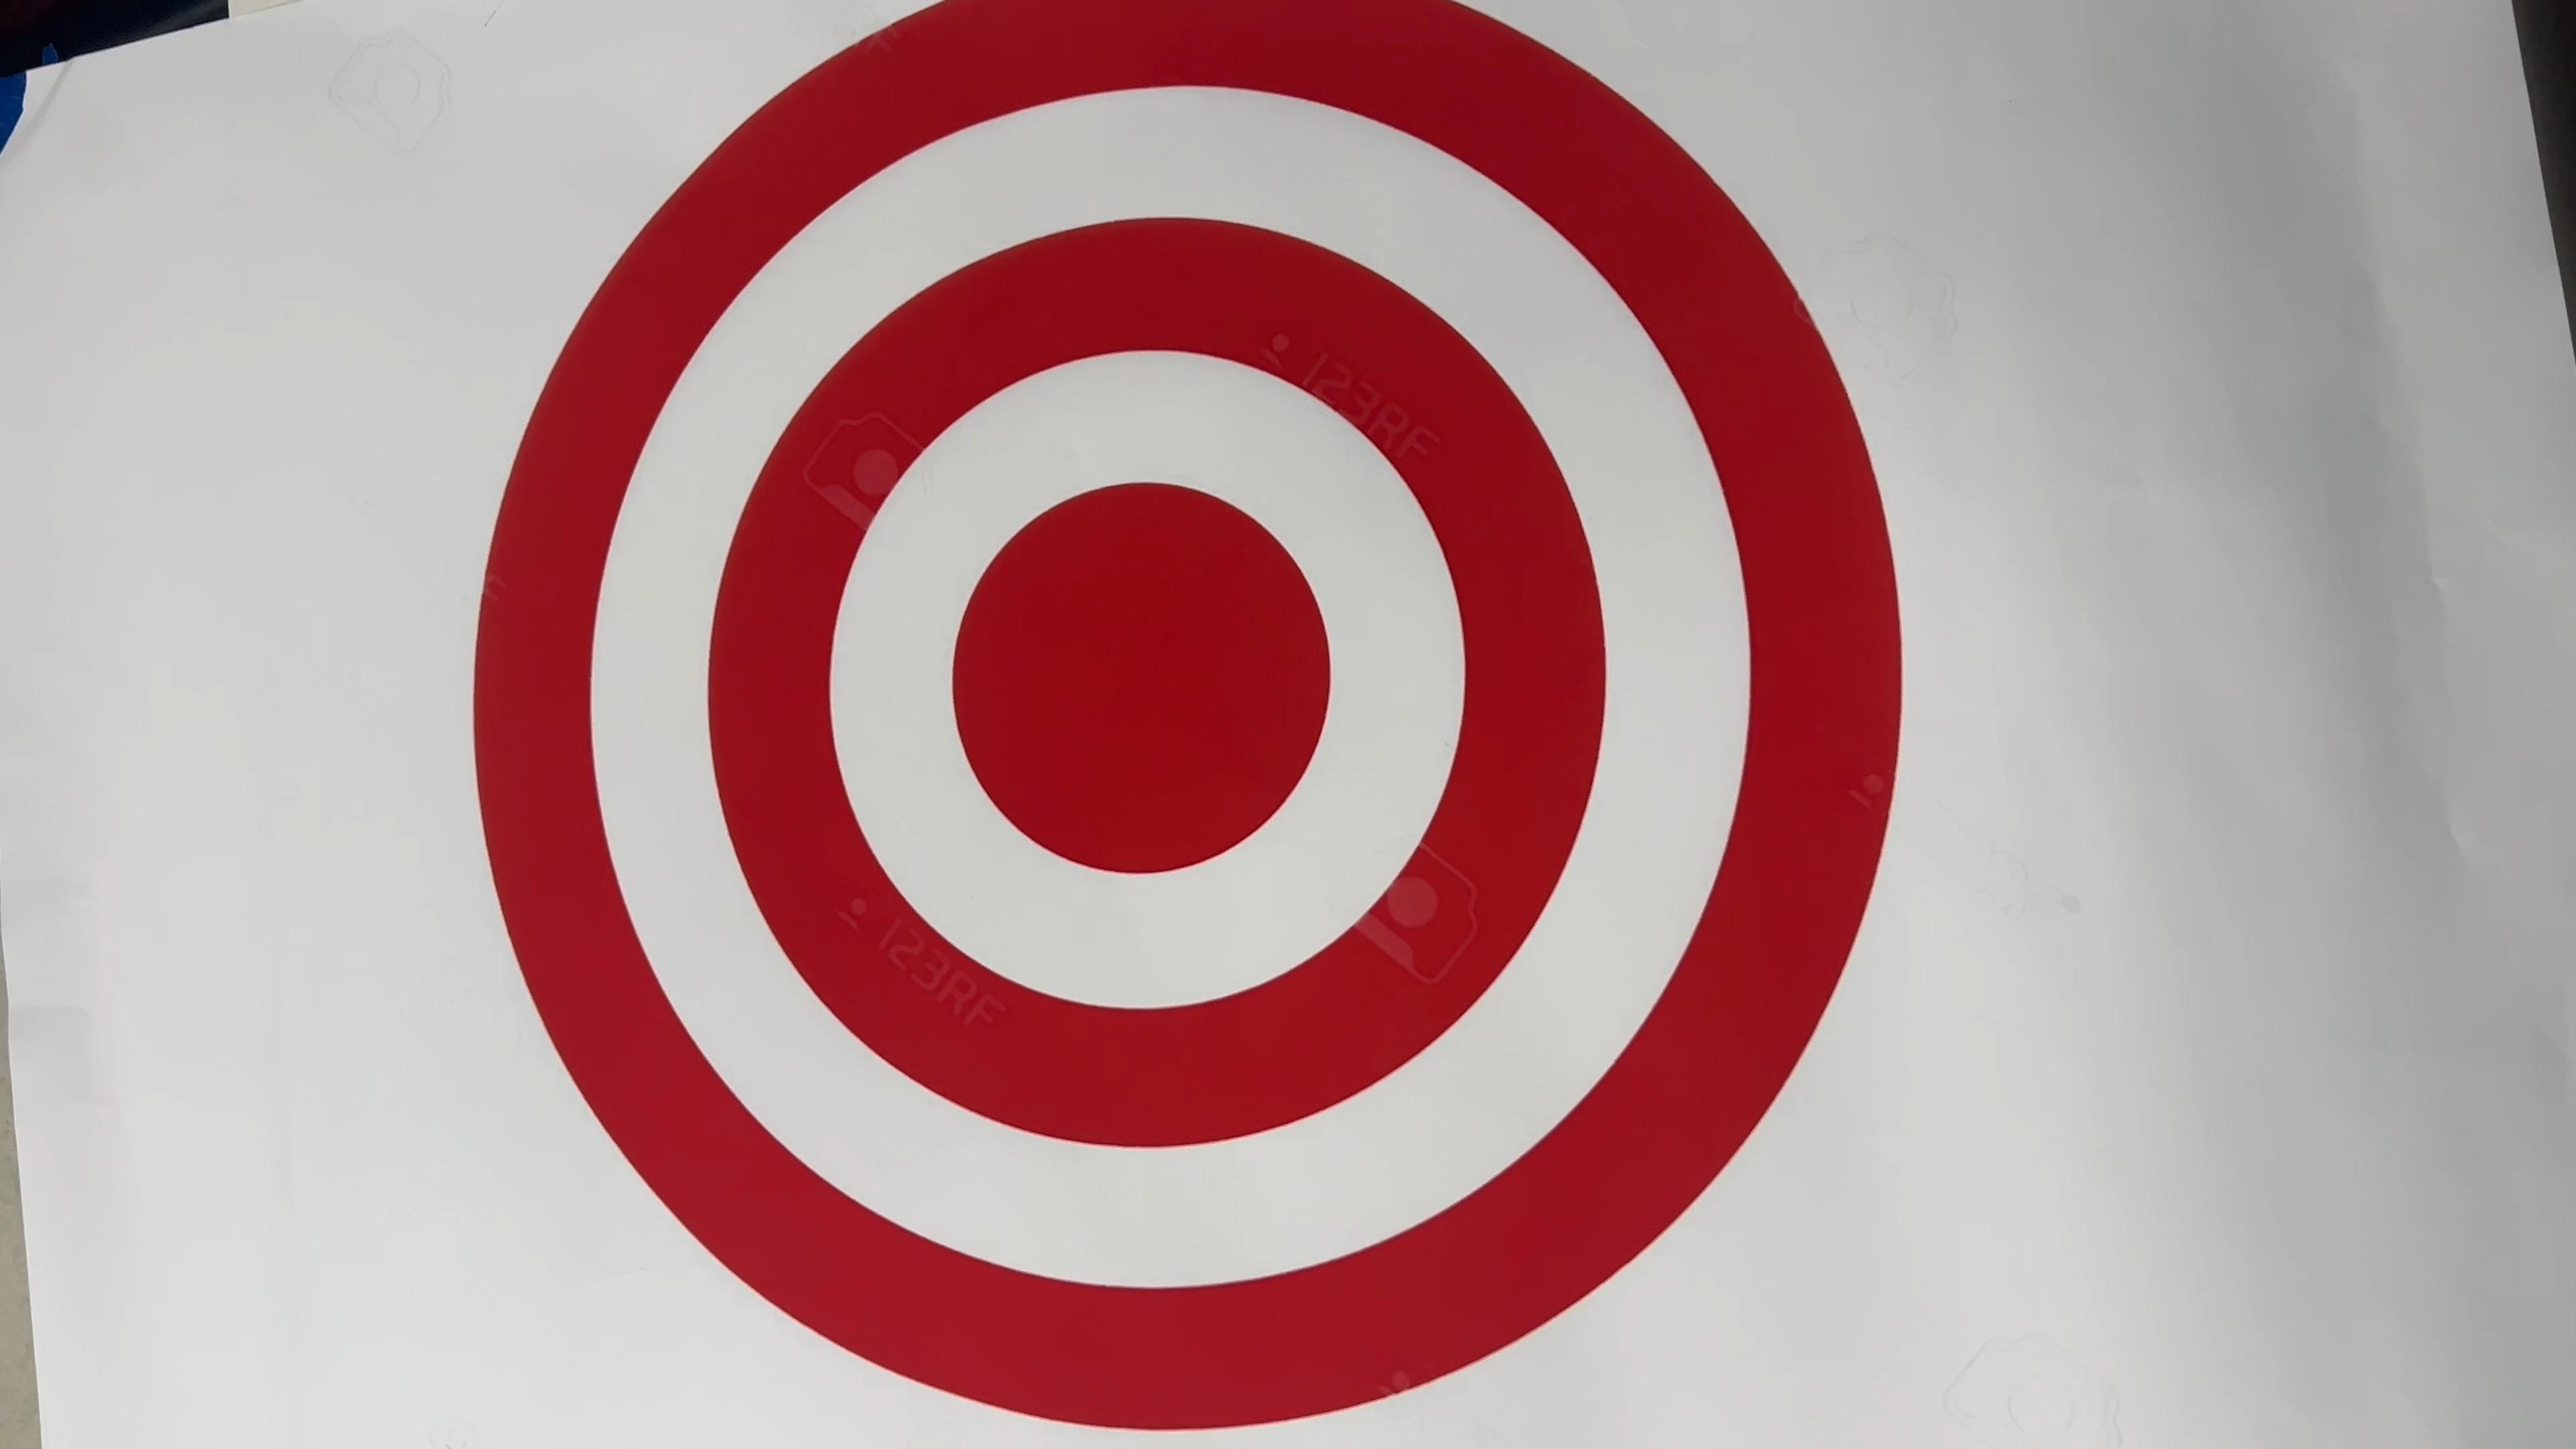target_red: (418, 0, 2015, 1449)
